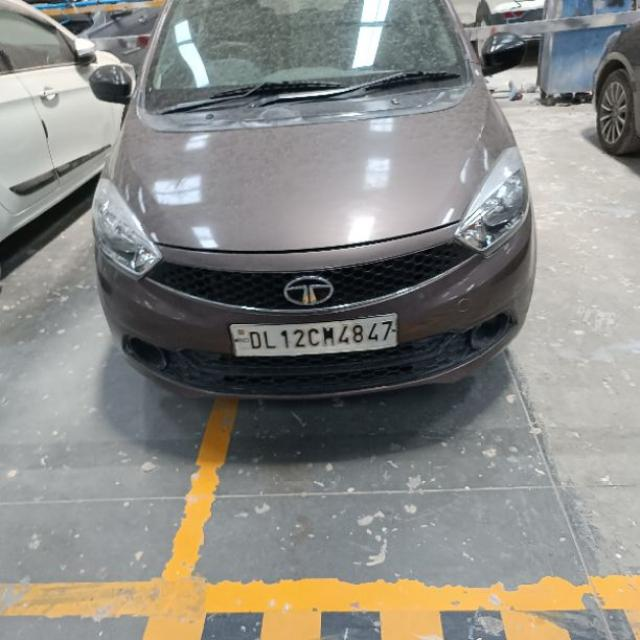license_plate: (228, 312, 399, 358)
